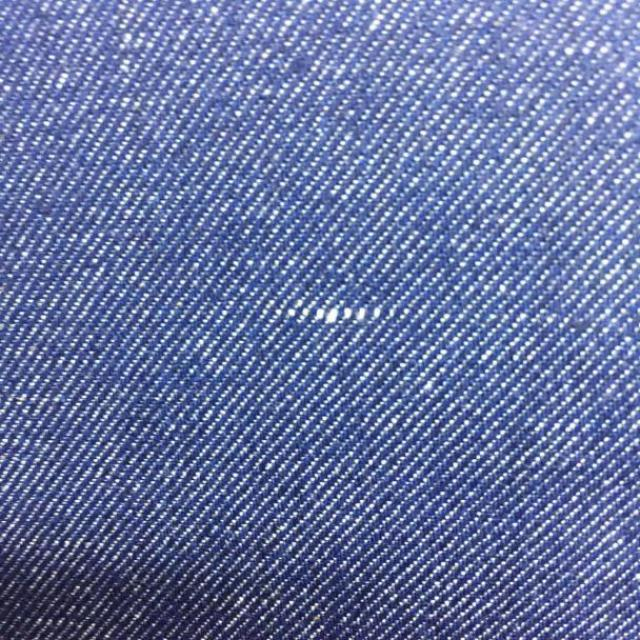Knot: (280, 306, 388, 325)
